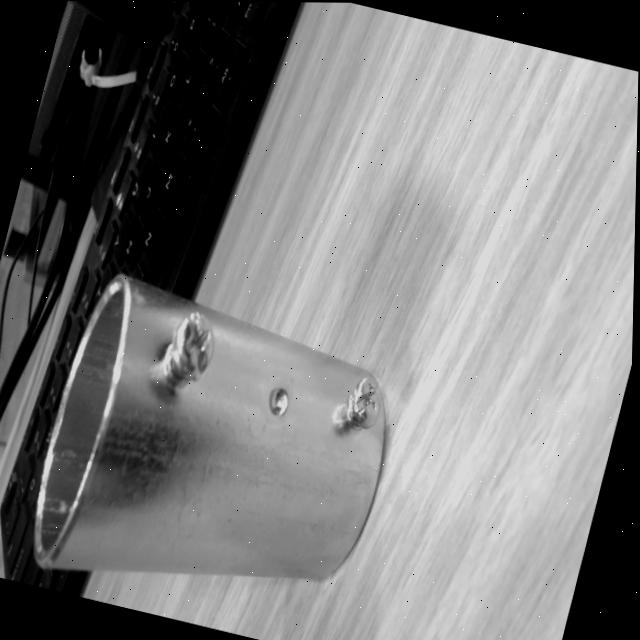Co_Lon: (13, 267, 414, 640)
